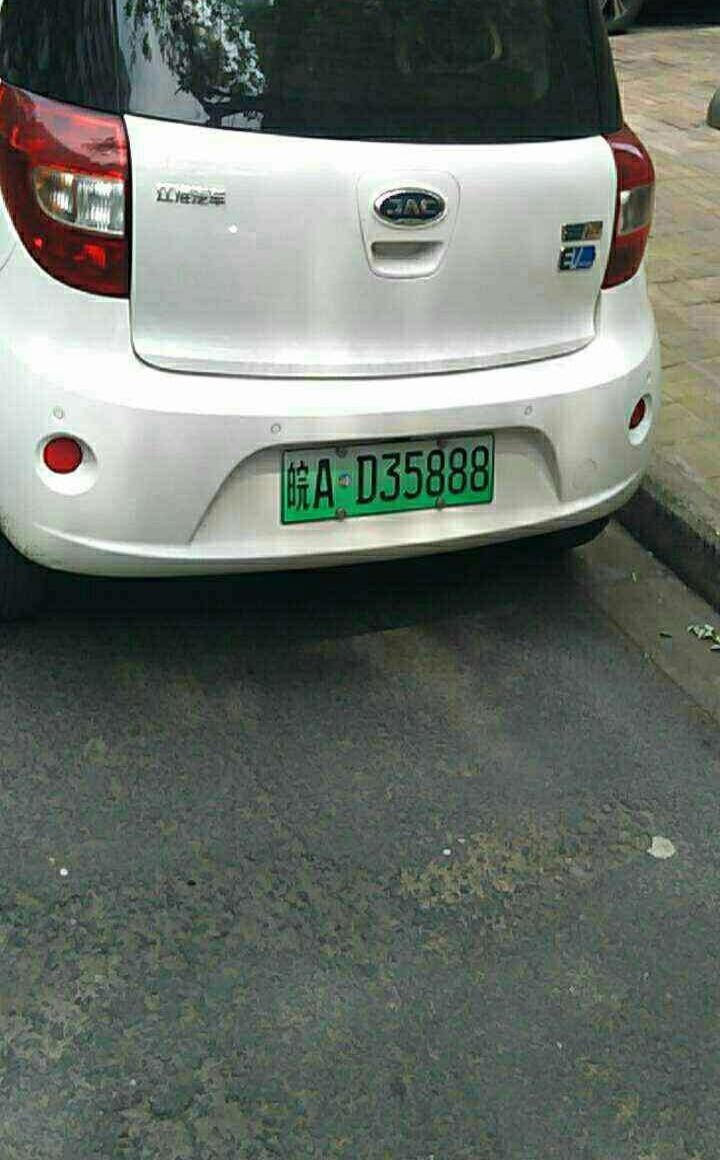car_id: (280, 436, 500, 518)
